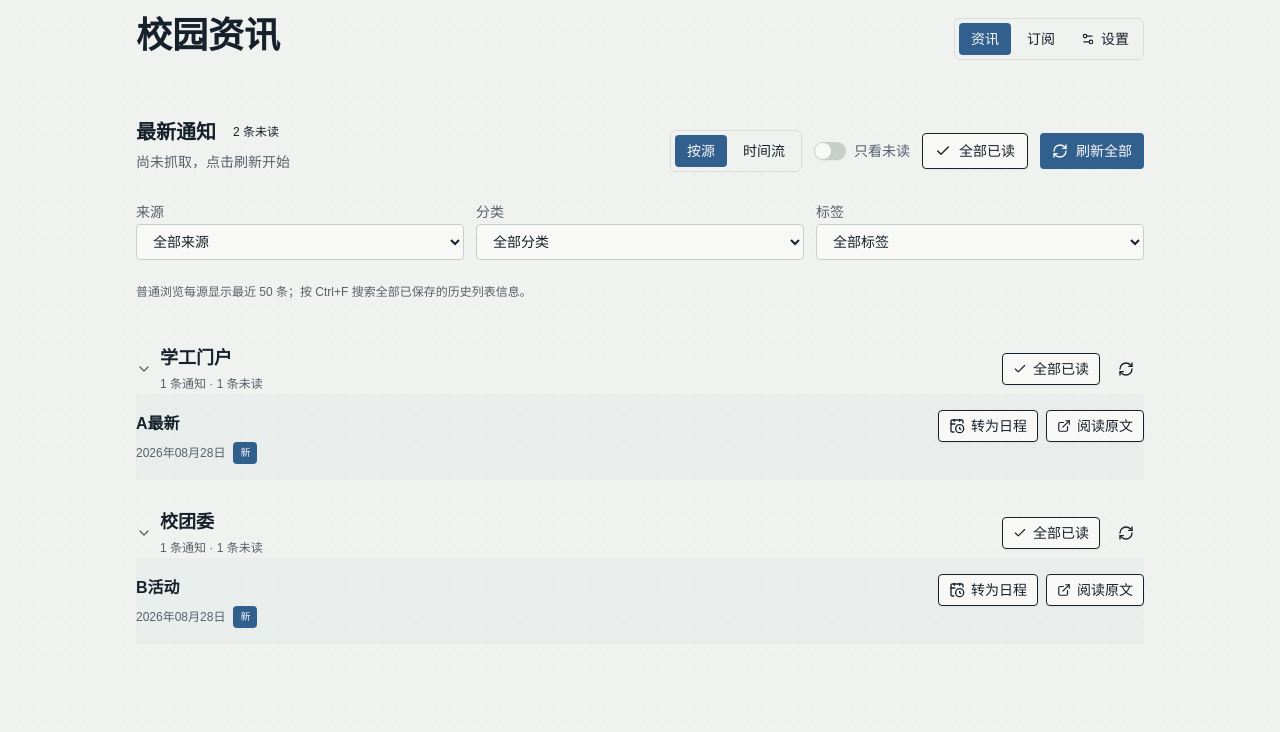
campus-feed view (第2层 三视图与分节折叠) › collapses a source group to hide its items
The image size is (1280, 732).
Expected: the heading "A最新" is shown, 136,415 -> 180,432
What coordinates should you click on to do the following:
click the button "学工门户 1 条通知 · 1 条未读"
I would click on:
 (199, 369)
Its box is 136,344 -> 263,394.
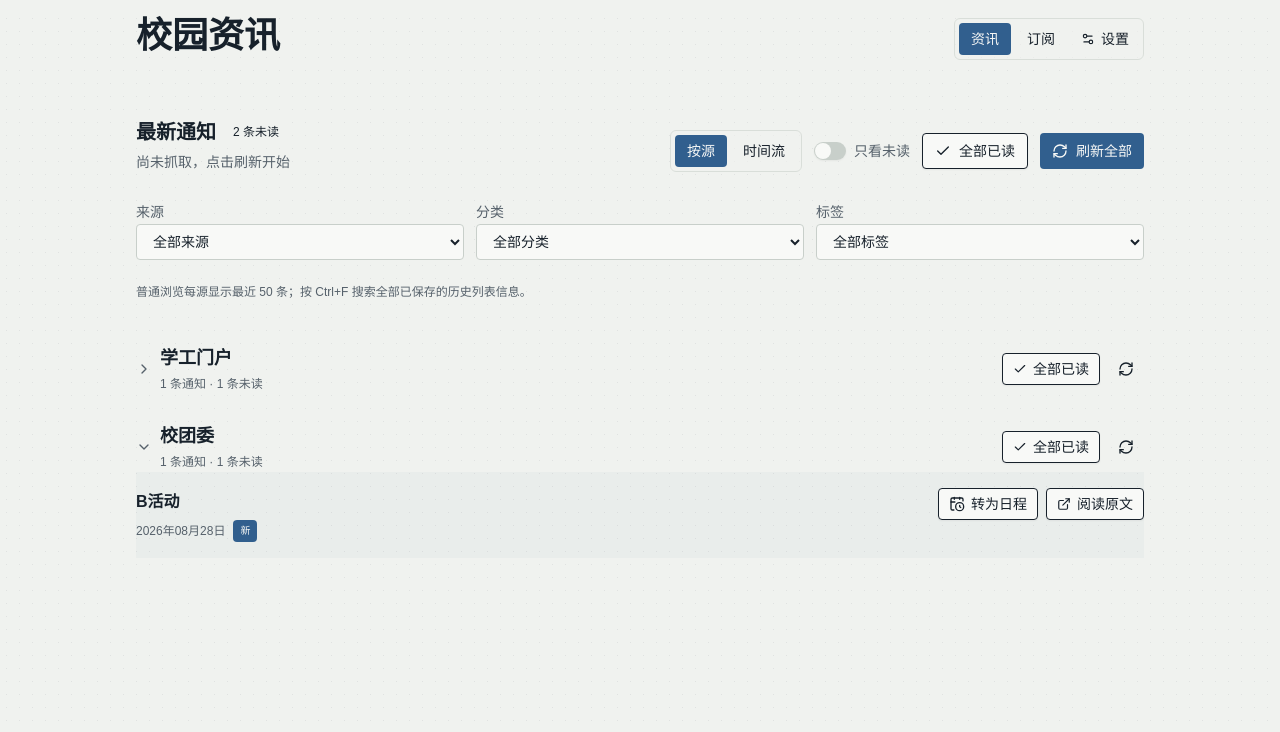
Expected: the heading "B活动" is shown, 136,493 -> 180,510
Expected: the heading "A最新" is gone
